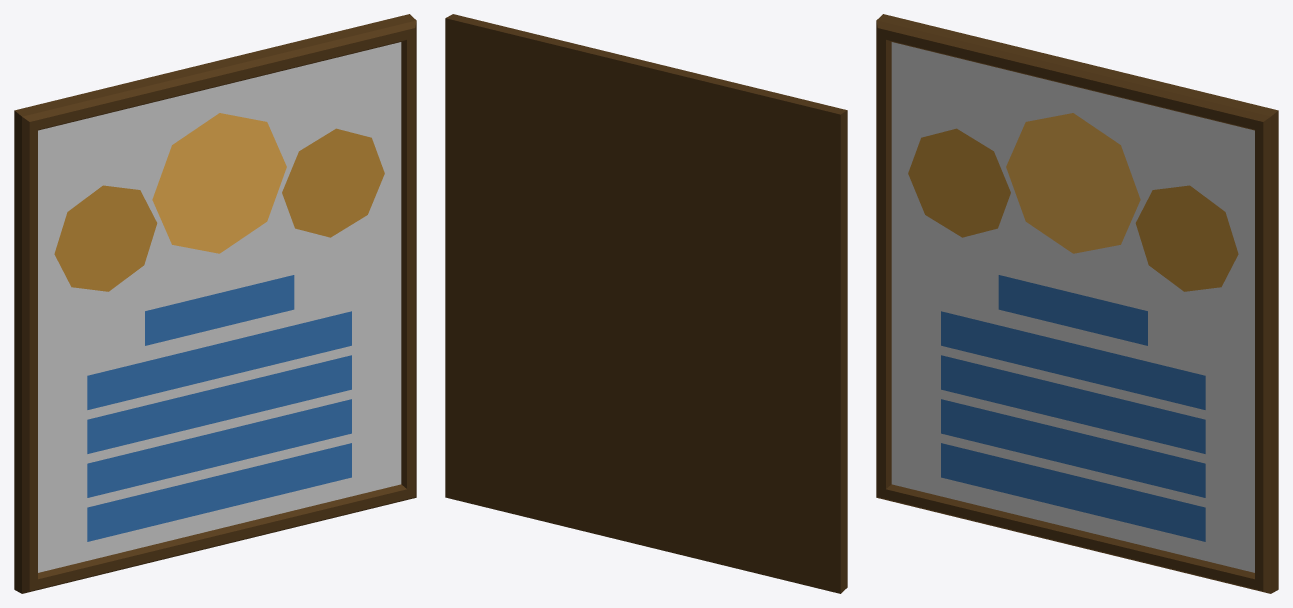
The model's file is SM_Int_WallCertificate01_4.obj.
The picture shows the model from 3 angles, left to right: view 1: azimuth 30°, elevation 25°; view 2: azimuth 150°, elevation 25°; view 3: azimuth 330°, elevation 25°; orthographic projection.
Visible parts, largest first — view 1: SM_Int_WallCertificate01_4_MI_AtlasSchool01A; view 2: SM_Int_WallCertificate01_4_MI_AtlasSchool01A; view 3: SM_Int_WallCertificate01_4_MI_AtlasSchool01A.
Boxes of the visible parts, x1,y1,x2,y2 form: SM_Int_WallCertificate01_4_MI_AtlasSchool01A: (14, 14, 416, 593); SM_Int_WallCertificate01_4_MI_AtlasSchool01A: (445, 14, 847, 593); SM_Int_WallCertificate01_4_MI_AtlasSchool01A: (876, 14, 1278, 593).
Bounding box in the file's own units: 0.3918 × 0.4541 × 0.0179.
1 material, 1 textured.
